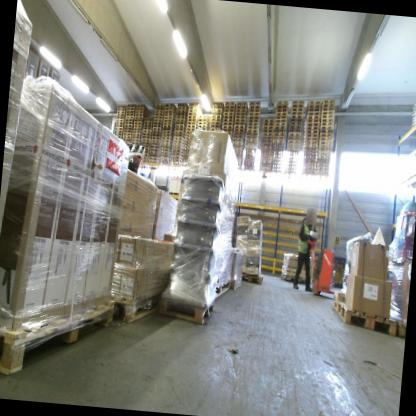pallet: (0, 288, 112, 386), (328, 295, 399, 338), (109, 285, 172, 328), (157, 290, 218, 327), (241, 271, 267, 288), (279, 274, 312, 286), (213, 280, 231, 299), (230, 275, 245, 293), (394, 316, 407, 336), (306, 99, 321, 110), (189, 103, 204, 112), (304, 125, 319, 133), (305, 110, 320, 117), (305, 121, 320, 128), (317, 135, 332, 142), (306, 104, 320, 111), (306, 107, 320, 114), (321, 113, 335, 120), (317, 144, 331, 151), (306, 118, 319, 125), (164, 103, 177, 110), (303, 129, 318, 135), (321, 99, 336, 105), (320, 117, 335, 123), (318, 128, 333, 134), (196, 115, 211, 121), (290, 117, 304, 123), (306, 114, 320, 120), (304, 133, 318, 139), (304, 143, 318, 149), (321, 107, 335, 113), (320, 121, 334, 127), (317, 151, 331, 157), (316, 158, 330, 164), (277, 99, 289, 106), (276, 107, 288, 114), (209, 124, 223, 130), (134, 109, 146, 116), (225, 99, 235, 107), (292, 100, 305, 106), (291, 106, 304, 112), (287, 143, 300, 149), (211, 121, 224, 127), (135, 107, 148, 113), (213, 101, 224, 108), (303, 140, 318, 145), (319, 124, 334, 129), (291, 113, 303, 119), (290, 124, 302, 130), (289, 135, 301, 141), (317, 166, 329, 172), (172, 142, 184, 148), (164, 112, 176, 118), (164, 116, 176, 122), (136, 104, 148, 110), (319, 132, 333, 137), (250, 100, 260, 107), (264, 118, 275, 124), (249, 108, 260, 114), (237, 101, 248, 107), (177, 105, 188, 111), (174, 133, 185, 139), (171, 158, 182, 164), (135, 113, 146, 119), (122, 135, 133, 141), (321, 103, 334, 108), (321, 110, 334, 115), (318, 141, 331, 146), (317, 155, 330, 160), (197, 121, 210, 126), (164, 107, 177, 112), (162, 125, 175, 130), (161, 127, 174, 132), (291, 110, 303, 115), (290, 121, 302, 126), (289, 131, 301, 136), (288, 140, 300, 145), (287, 147, 299, 152), (304, 151, 316, 156), (276, 111, 288, 116), (212, 108, 224, 113), (212, 111, 224, 116), (211, 114, 223, 119), (198, 118, 210, 123), (174, 127, 186, 132), (173, 139, 185, 144), (172, 146, 184, 151), (171, 149, 183, 154), (171, 155, 183, 160), (164, 110, 176, 115), (163, 122, 175, 127), (162, 130, 174, 135), (133, 115, 145, 120), (126, 106, 136, 112), (317, 148, 331, 152), (196, 124, 210, 128), (292, 103, 303, 108), (290, 128, 301, 133), (277, 104, 288, 109), (276, 115, 287, 120), (275, 118, 286, 123), (275, 121, 286, 126), (274, 136, 285, 141), (273, 143, 284, 148), (263, 129, 274, 134), (261, 139, 272, 144), (260, 149, 271, 154), (249, 112, 260, 117), (246, 135, 257, 140), (245, 145, 256, 150), (236, 105, 247, 110), (236, 108, 247, 113), (234, 118, 245, 123), (233, 128, 244, 133), (224, 109, 235, 114), (177, 103, 188, 108), (175, 121, 186, 126), (174, 130, 185, 135), (161, 139, 172, 144), (161, 142, 172, 147), (316, 163, 329, 167), (264, 125, 274, 130), (248, 122, 258, 127), (246, 139, 256, 144), (234, 124, 244, 129), (233, 138, 243, 143), (211, 117, 221, 122), (189, 106, 199, 111), (188, 108, 198, 113), (186, 115, 196, 120), (117, 104, 127, 109), (304, 148, 316, 152), (274, 129, 286, 133), (273, 140, 285, 144), (260, 146, 272, 150), (210, 128, 222, 132), (197, 127, 209, 131), (173, 136, 185, 140), (171, 153, 183, 157), (162, 134, 174, 138), (160, 145, 172, 149), (132, 130, 144, 134), (224, 115, 233, 120), (133, 133, 142, 138), (124, 133, 133, 138), (275, 126, 286, 130), (274, 133, 285, 137), (272, 147, 283, 151), (261, 143, 272, 147), (248, 126, 259, 130), (236, 112, 247, 116), (235, 115, 246, 119), (233, 135, 244, 139), (222, 125, 233, 129), (213, 105, 224, 109), (186, 118, 197, 122), (176, 112, 187, 116), (176, 115, 187, 119), (163, 119, 174, 123), (161, 137, 172, 141), (264, 121, 274, 125), (263, 133, 273, 137), (262, 136, 272, 140), (249, 116, 259, 120), (248, 129, 258, 133), (233, 132, 243, 136), (225, 106, 235, 110), (222, 128, 232, 132), (186, 127, 196, 131), (177, 109, 187, 113), (176, 118, 186, 122), (175, 124, 185, 128), (161, 148, 171, 152), (149, 156, 157, 161), (141, 141, 151, 145), (134, 122, 144, 126), (124, 121, 134, 125), (124, 124, 134, 128), (123, 130, 133, 134), (122, 140, 132, 144), (304, 138, 317, 141), (249, 119, 258, 123), (224, 119, 233, 123), (224, 122, 233, 126), (188, 112, 197, 116), (187, 121, 196, 125), (153, 122, 162, 126), (152, 130, 161, 134), (152, 134, 161, 138), (151, 139, 160, 143), (150, 145, 159, 149), (148, 160, 157, 164), (143, 127, 152, 131), (142, 130, 151, 134), (142, 136, 151, 140), (132, 139, 141, 143), (131, 142, 140, 146), (127, 104, 136, 108), (126, 110, 135, 114), (126, 113, 135, 117), (125, 116, 134, 120), (125, 118, 134, 122), (124, 127, 133, 131), (117, 110, 126, 114), (185, 133, 192, 138), (249, 106, 260, 109), (247, 133, 258, 136), (245, 143, 256, 146), (234, 122, 245, 125), (232, 142, 243, 145), (184, 140, 192, 144), (156, 103, 164, 107), (156, 106, 164, 110), (155, 109, 163, 113), (154, 115, 162, 119), (153, 127, 161, 131), (145, 118, 153, 122), (144, 124, 152, 128), (116, 118, 124, 122), (115, 124, 123, 128), (114, 132, 122, 136), (224, 113, 234, 116), (186, 125, 196, 128), (134, 119, 144, 122), (133, 126, 143, 129), (134, 128, 144, 131), (150, 150, 157, 154), (143, 147, 150, 151), (115, 127, 122, 131), (151, 137, 160, 140), (144, 121, 153, 124), (142, 133, 151, 136), (142, 139, 151, 142), (142, 144, 151, 147), (117, 114, 126, 117), (184, 138, 192, 141), (155, 113, 163, 116), (154, 119, 162, 122), (151, 143, 159, 146), (150, 148, 158, 151), (149, 154, 157, 157), (116, 121, 123, 124), (115, 130, 122, 133), (132, 137, 142, 139), (186, 131, 192, 134), (153, 125, 162, 127), (117, 109, 126, 111), (228, 132, 232, 136), (144, 150, 149, 153), (143, 156, 148, 159), (117, 117, 124, 119), (143, 154, 148, 156)
pallet_truck: (299, 233, 346, 301)
